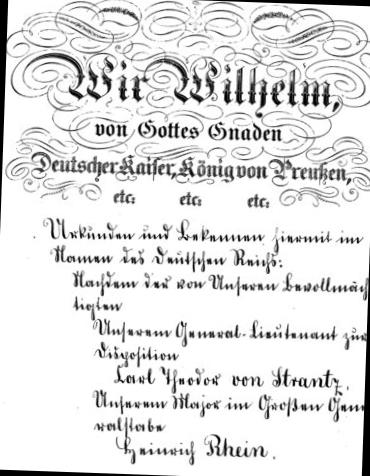text: (15, 48, 344, 121), (41, 212, 366, 259), (26, 148, 354, 190), (67, 263, 369, 306), (90, 312, 367, 353), (87, 386, 364, 426), (110, 359, 351, 402), (46, 240, 284, 276), (111, 428, 278, 470), (92, 117, 286, 145), (90, 340, 182, 372), (91, 414, 168, 441), (70, 294, 125, 323), (177, 190, 204, 210), (245, 192, 272, 210), (110, 188, 138, 205)
